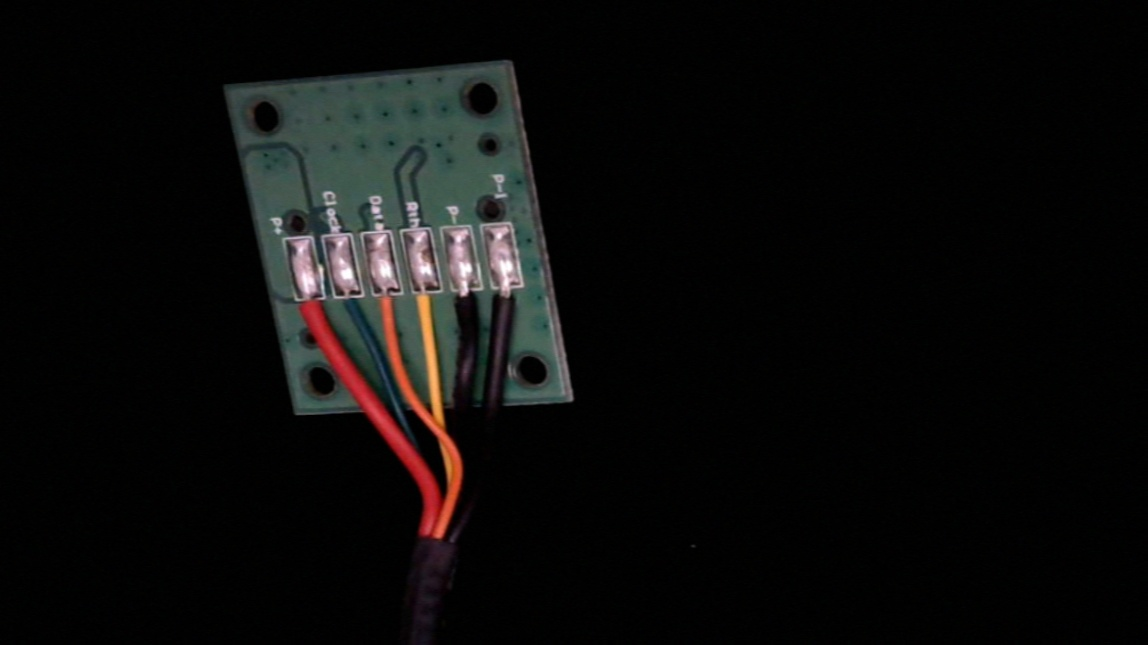Black: (449, 277, 485, 341)
Black1: (489, 276, 529, 338)
Green: (329, 286, 375, 332)
Orange: (369, 283, 408, 336)
Red: (288, 287, 334, 331)
Yellow: (409, 279, 448, 336)
